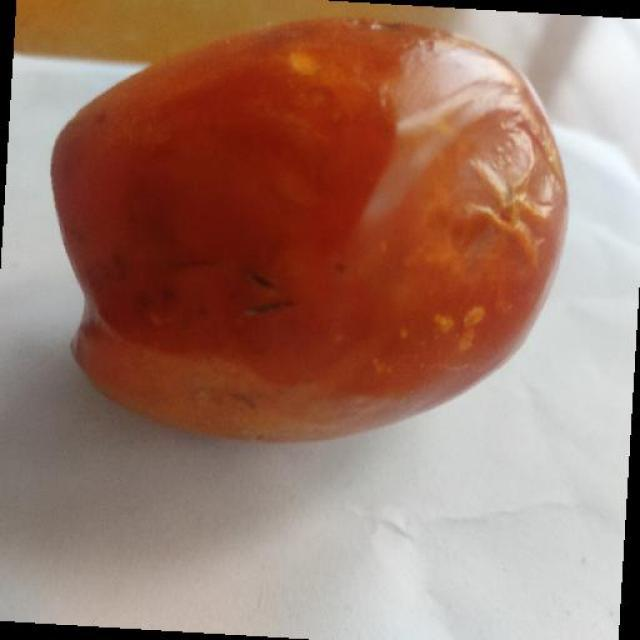Rotten Tomato: (49, 12, 559, 448)
